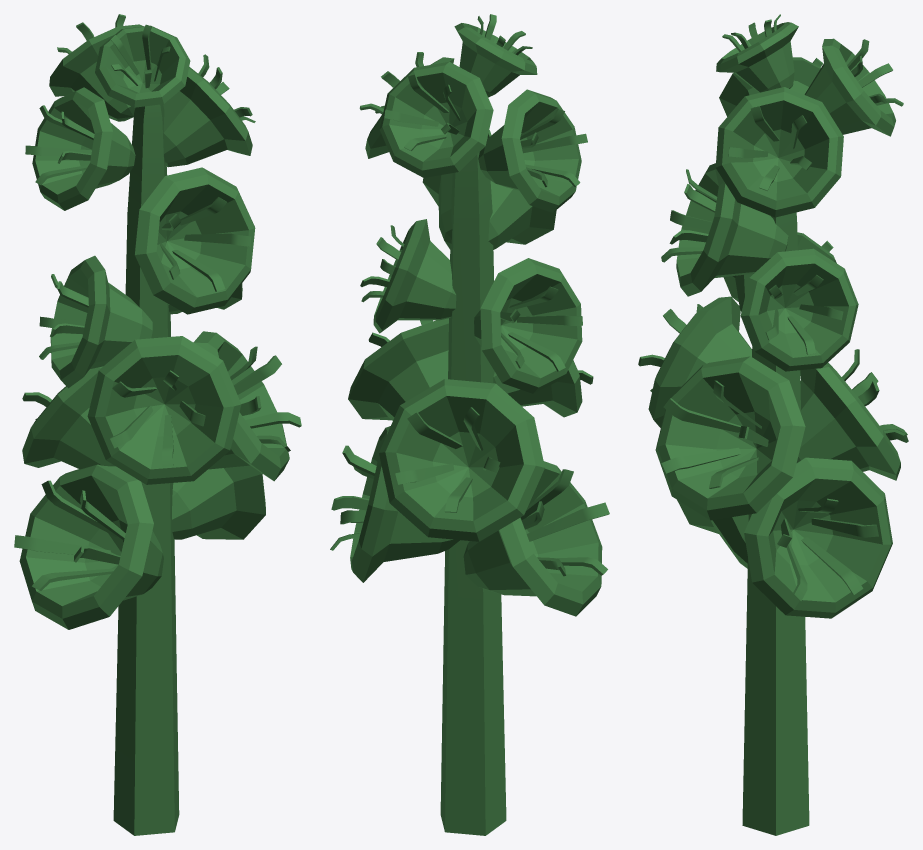
The model's file is mutant plant tall.fbx.
3 renders of one model, left to right at view 1: azimuth 30°, elevation 25°; view 2: azimuth 150°, elevation 25°; view 3: azimuth 270°, elevation 25°, orthographic.
Parts seen in each view (by area): view 1: polySurface462; view 2: polySurface462; view 3: polySurface462.
Boxes of the visible parts, <box> form: polySurface462: <box>14,14,301,835</box>; polySurface462: <box>330,14,609,835</box>; polySurface462: <box>638,14,908,835</box>.
Size of the model in its own units: 8.01 by 24.75 by 7.6.
